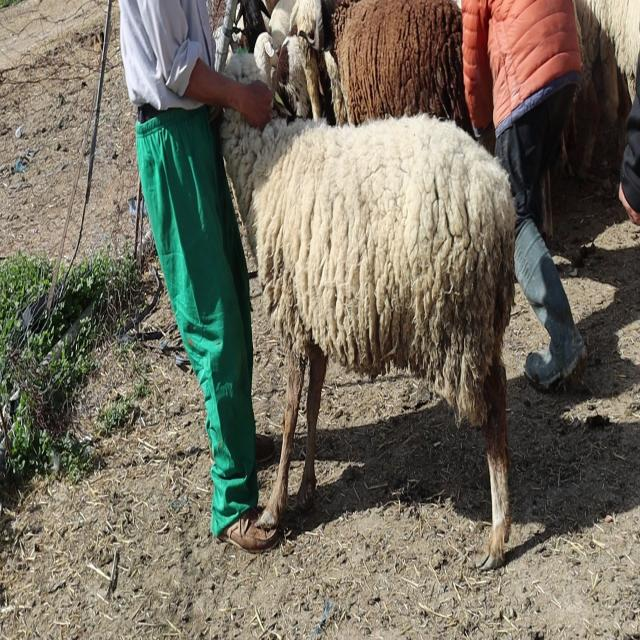Score_5: (220, 110, 515, 568)
